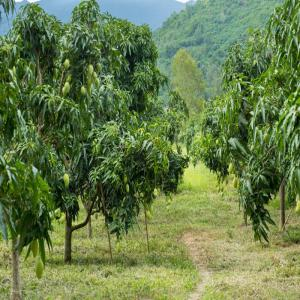Tree: (0, 2, 171, 278), (204, 10, 296, 244)
